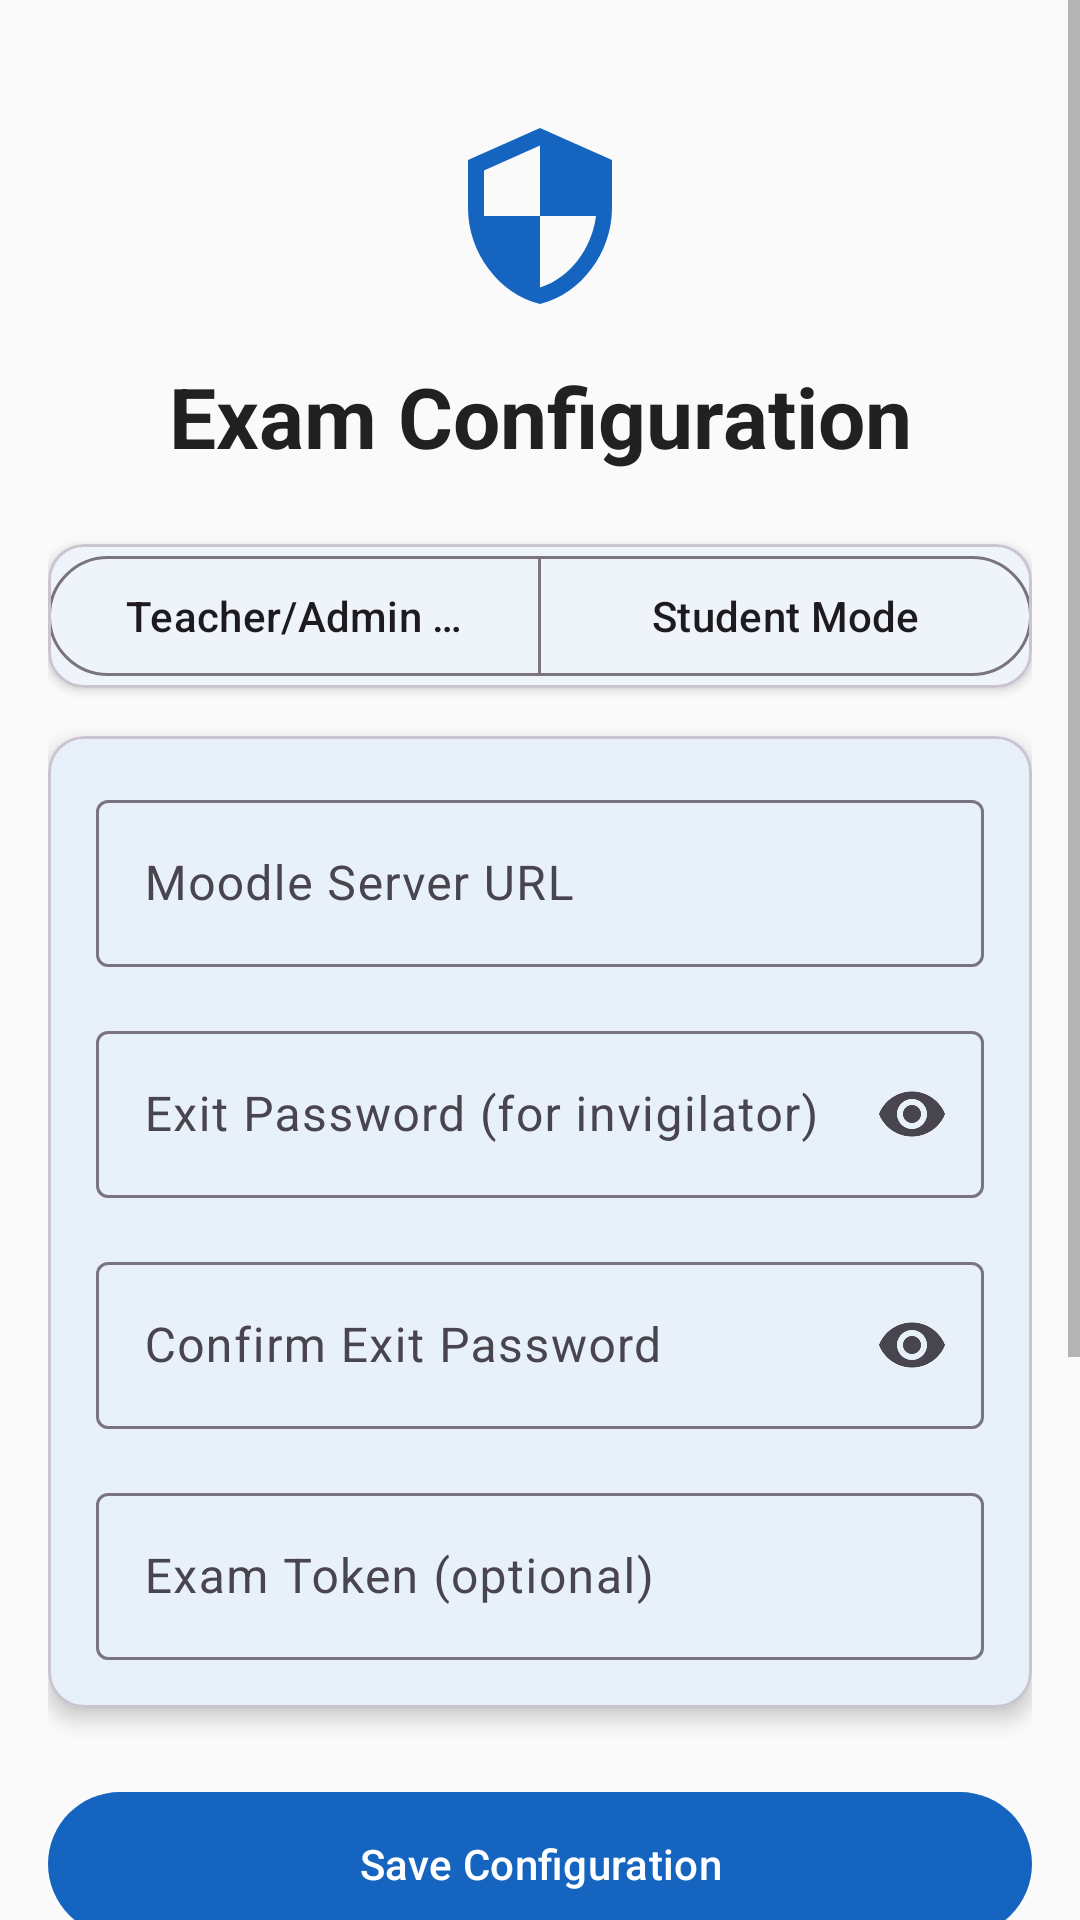

Icons on this 1080 × 1920 Android screen, each with the point to tap as (x,y):
shield: (540,216)
